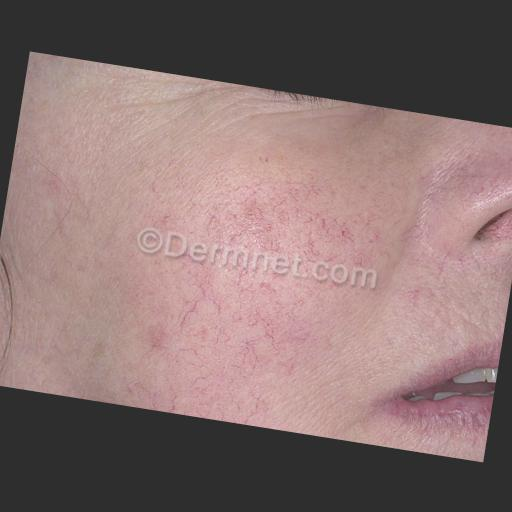Skin_Lesion: (144, 314, 176, 356), (236, 338, 264, 375), (43, 172, 74, 200), (450, 404, 476, 424), (256, 278, 278, 300), (158, 207, 178, 228)
